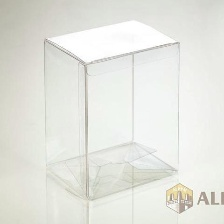plastic_box: (34, 13, 187, 207)
